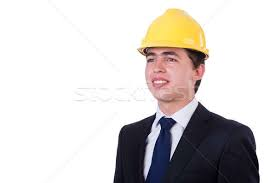Person_wearing_helmet: (134, 6, 208, 69)
